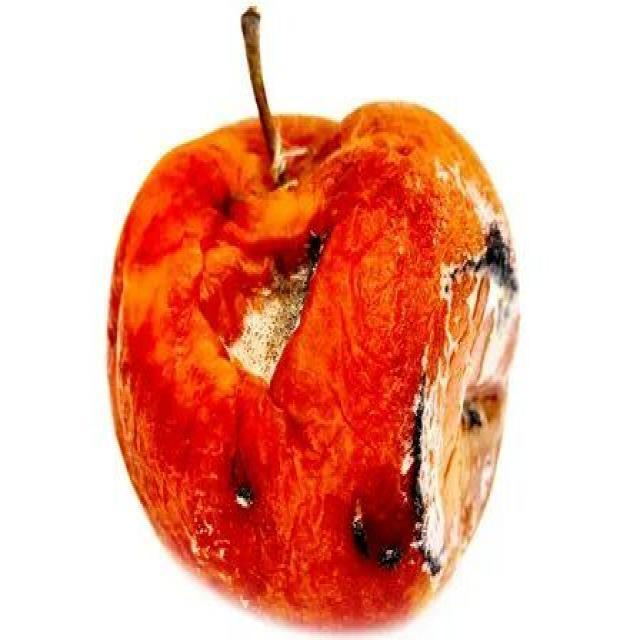Rotten: (78, 108, 515, 620)
